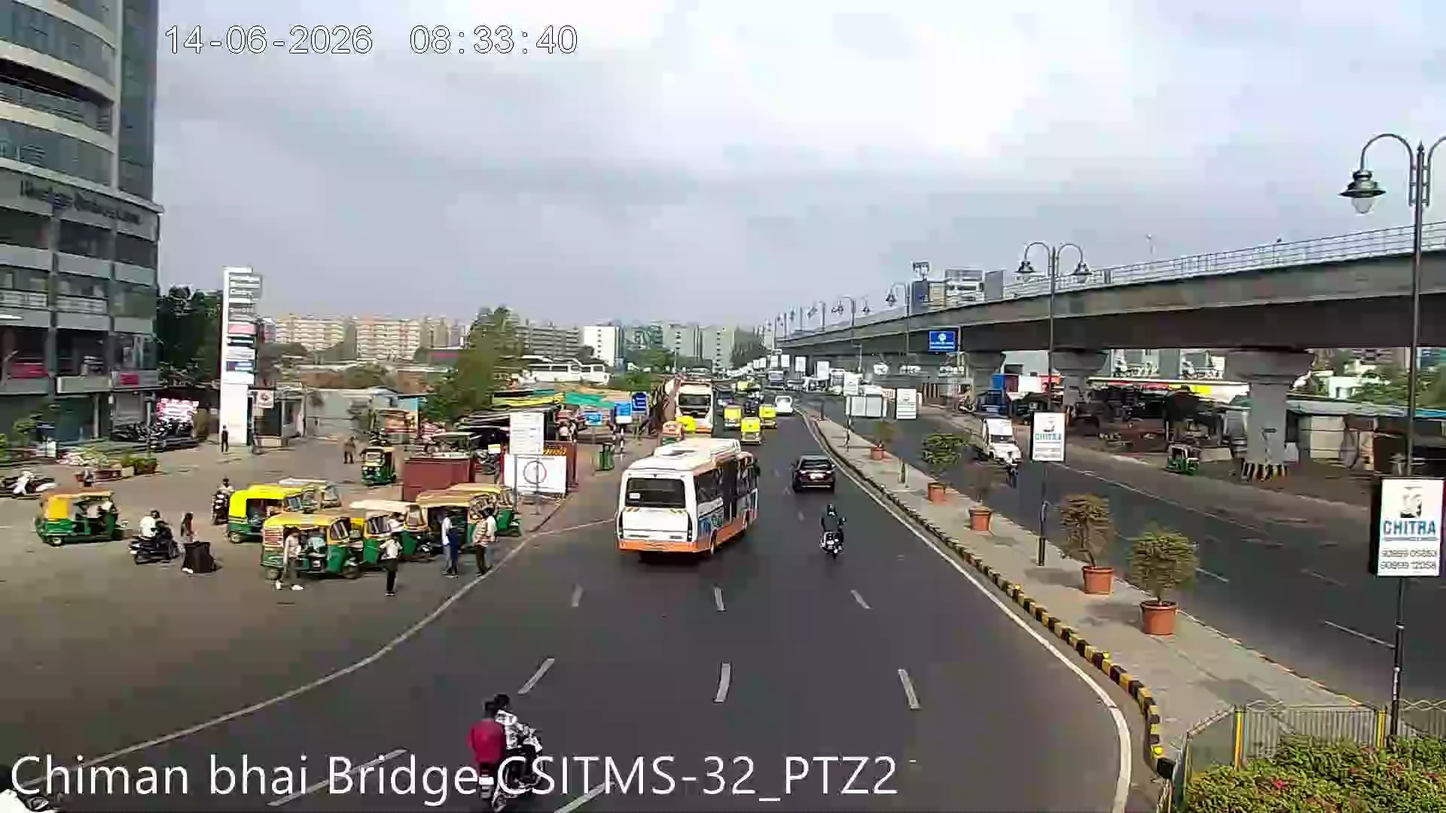auto_rickshaw: (401, 481, 516, 551), (256, 507, 367, 577), (219, 478, 312, 542), (33, 485, 123, 544), (439, 480, 524, 538), (359, 444, 398, 484), (718, 407, 745, 432), (737, 415, 761, 440), (759, 406, 778, 427)
bus: (611, 434, 761, 554)
car: (791, 451, 837, 492)
pedestrian: (179, 505, 214, 574), (473, 529, 495, 582), (379, 552, 402, 602), (441, 532, 462, 581)
two_wheeler: (461, 690, 548, 793), (127, 504, 180, 566), (817, 501, 847, 561), (998, 449, 1022, 491)
